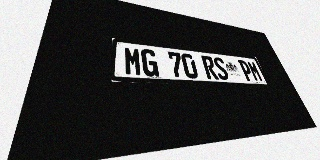0: (180, 53, 199, 79)
7: (167, 51, 185, 78)
G: (141, 48, 159, 77)
M: (124, 46, 142, 76), (246, 61, 264, 82)
P: (237, 60, 255, 81)
R: (201, 55, 219, 80)
S: (212, 57, 230, 80)
